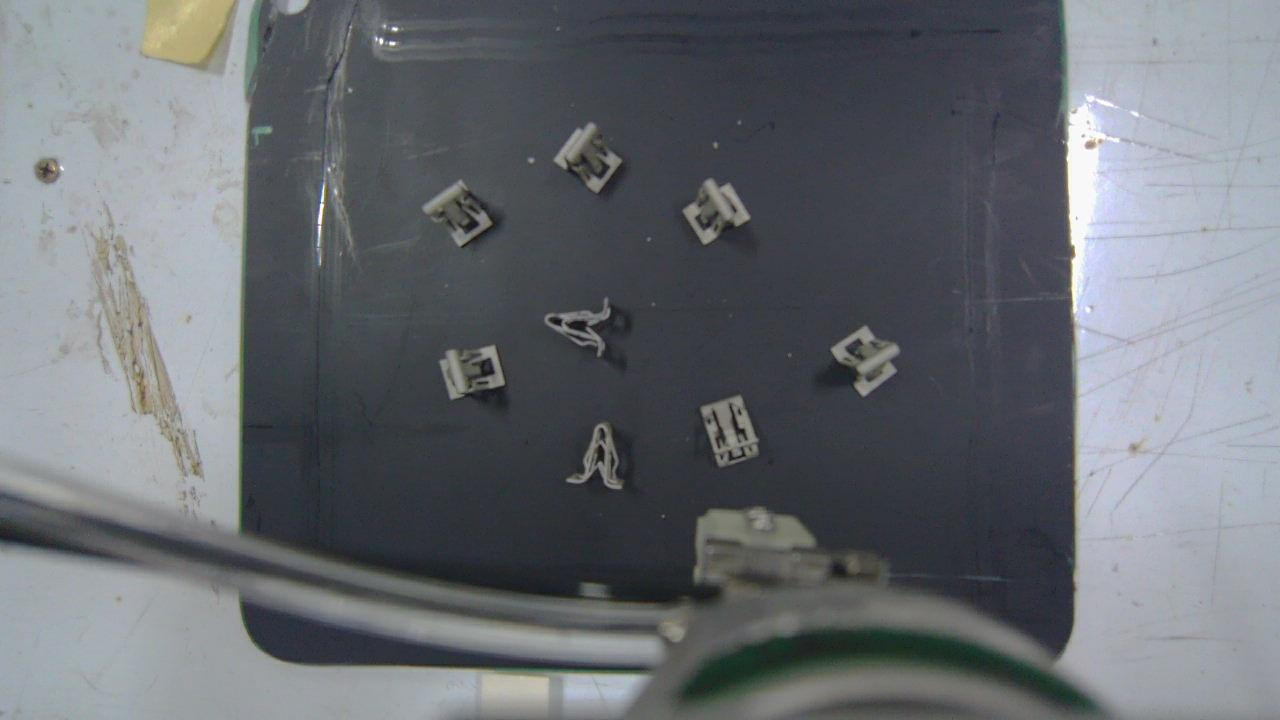ng: (423, 178, 494, 248), (554, 122, 621, 193), (681, 178, 746, 245), (701, 396, 759, 465), (564, 426, 626, 488), (440, 345, 506, 400), (544, 300, 607, 357)
pass: (831, 324, 899, 396)
